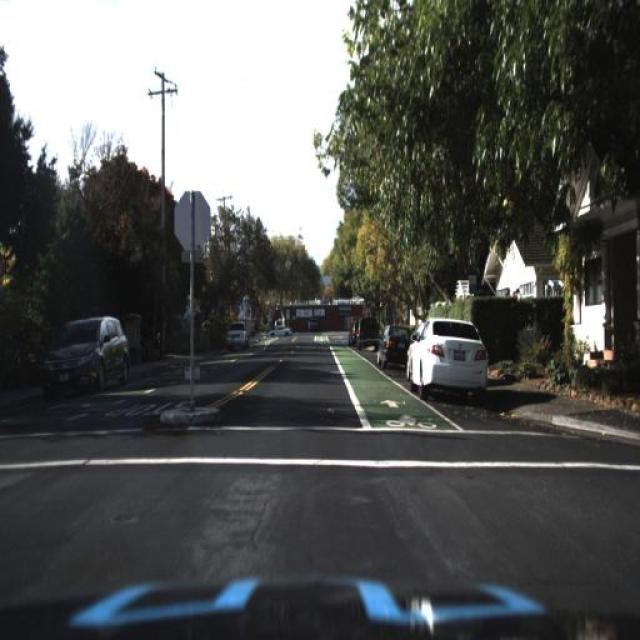car: (34, 294, 128, 384), (401, 314, 489, 401), (373, 325, 411, 376), (220, 314, 248, 350), (357, 314, 382, 352), (264, 320, 295, 340)
